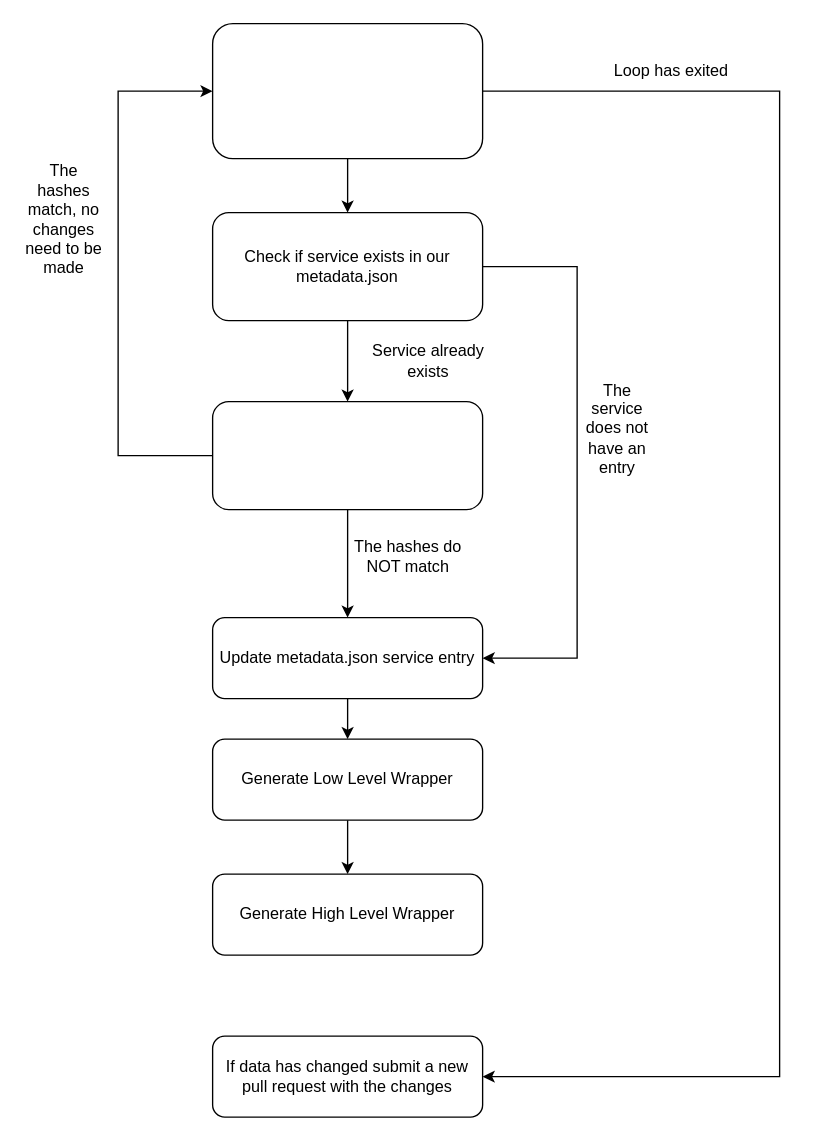
The diagram is 814 pixels wide and 1141 high, and some of its shapes have lost their labels. Each missing label, with the box of its shape:
Check if service SHA hash matches what is on file: (211, 400, 483, 510)
Loop through list of ${Service}.normal.json files from AWS SDK JS: (211, 22, 483, 159)
